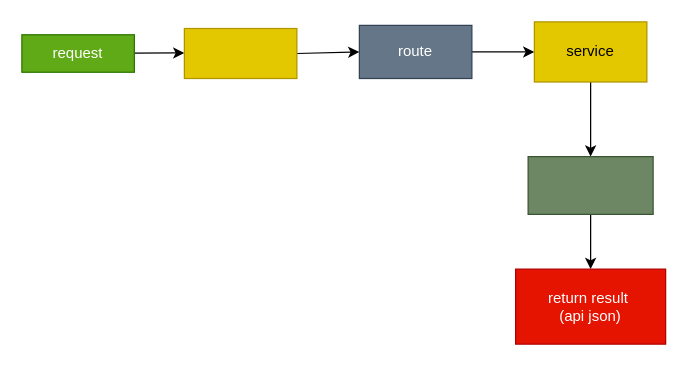
This 688x366 diagram has some shape labels left out. Each missing label, with the box of its shape:
database: (527, 155, 653, 214)
server.js: (183, 27, 297, 78)
